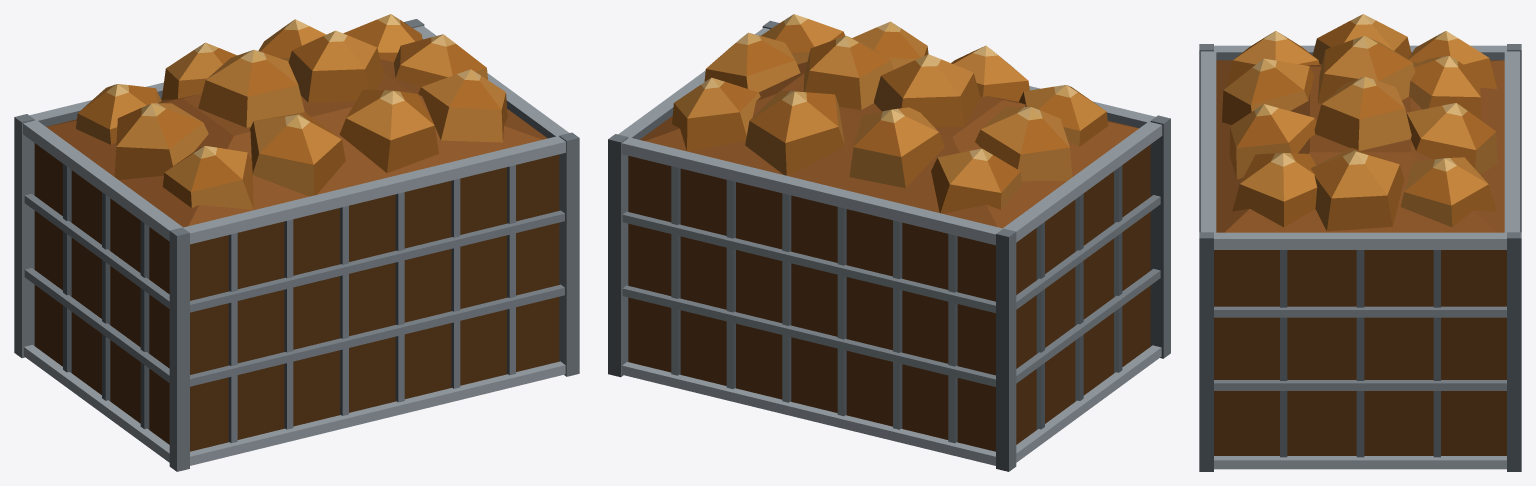
Rendered from FMS_Crate_Wire_Full.fbx.
3 renders of one model, left to right at view 1: azimuth 30°, elevation 25°; view 2: azimuth 150°, elevation 25°; view 3: azimuth 270°, elevation 25°, orthographic.
Parts seen in each view (by area): view 1: item_stalls_crate_wire_full; view 2: item_stalls_crate_wire_full; view 3: item_stalls_crate_wire_full.
Boxes of the visible parts, x1,y1,x2,y2 form: item_stalls_crate_wire_full: [14, 14, 579, 471]; item_stalls_crate_wire_full: [608, 14, 1170, 471]; item_stalls_crate_wire_full: [1199, 14, 1521, 471].
Size of the model in its own units: 0.5 by 0.3826 by 0.35.
